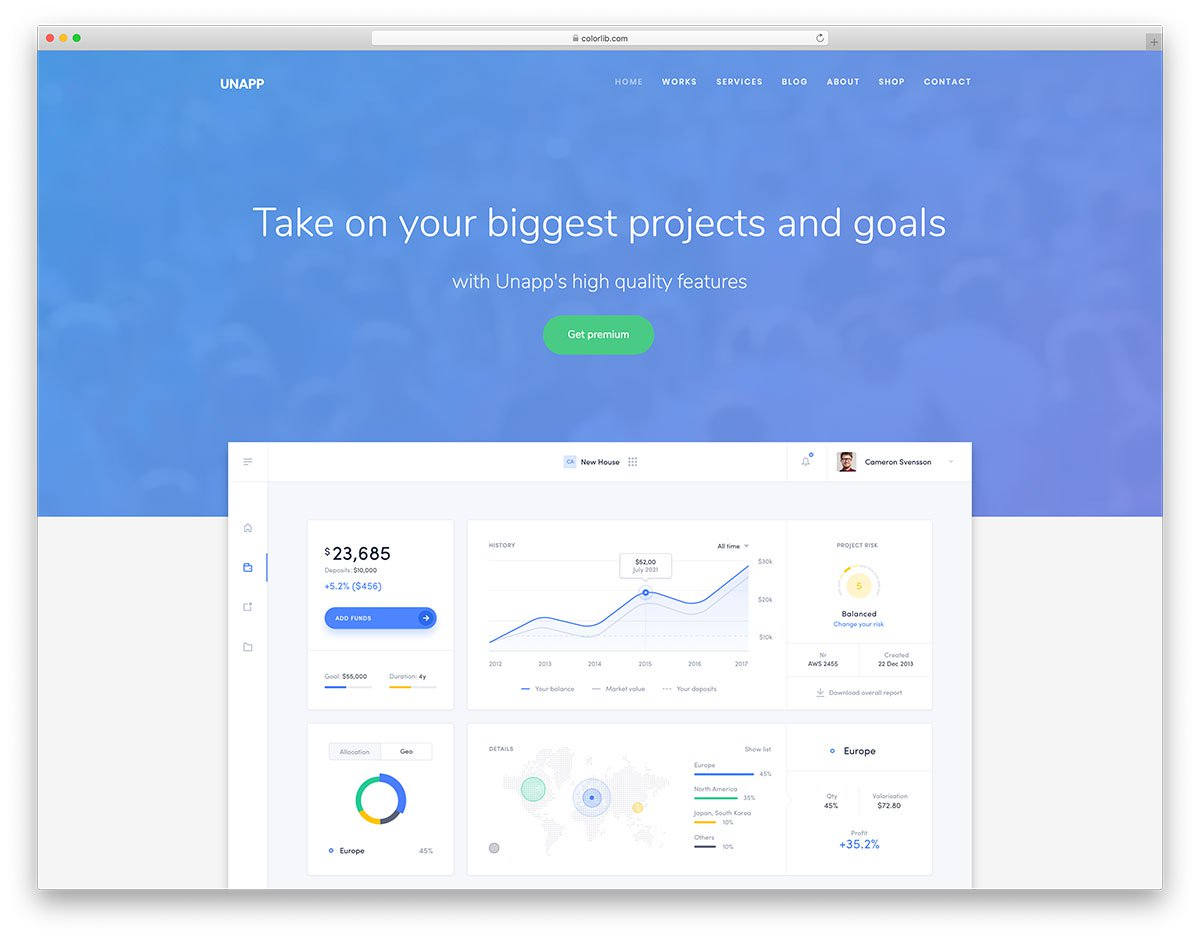button: (536, 310, 657, 368)
